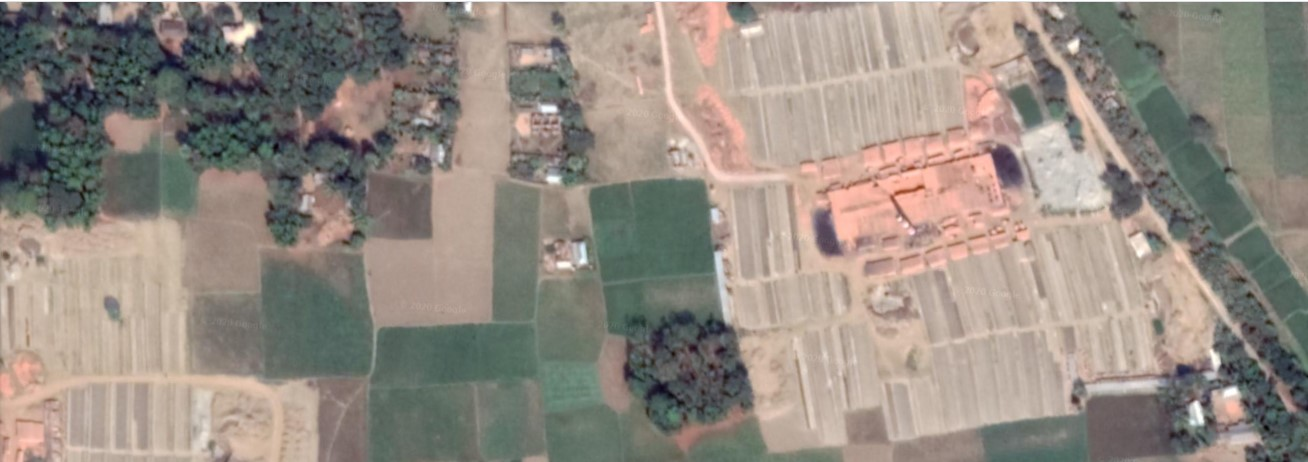kiln: (811, 161, 1019, 270)
